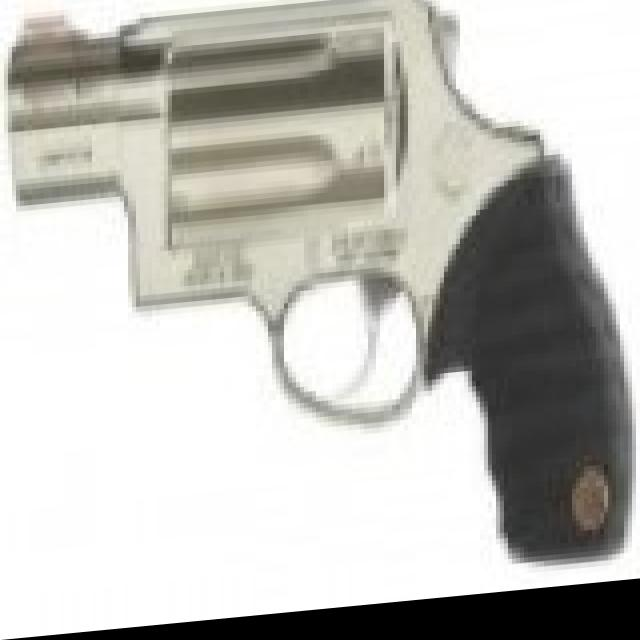handgun: (16, 0, 640, 612)
